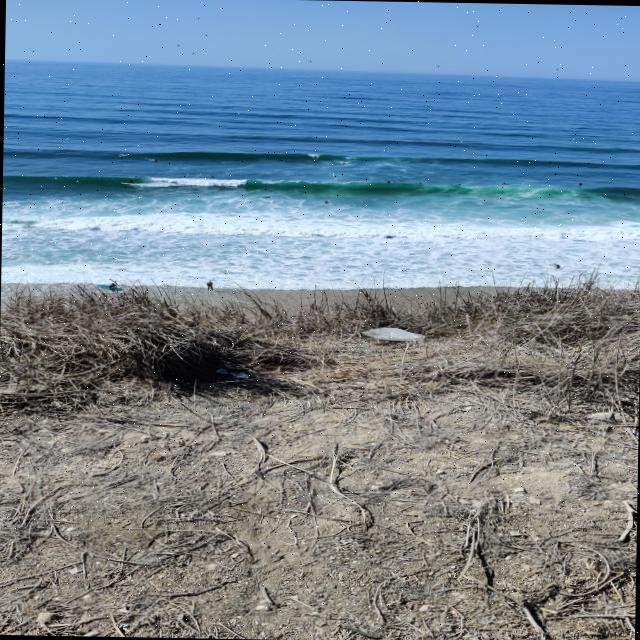Plastic film: (361, 328, 425, 342)
Unlabeled litter: (215, 368, 248, 378)
